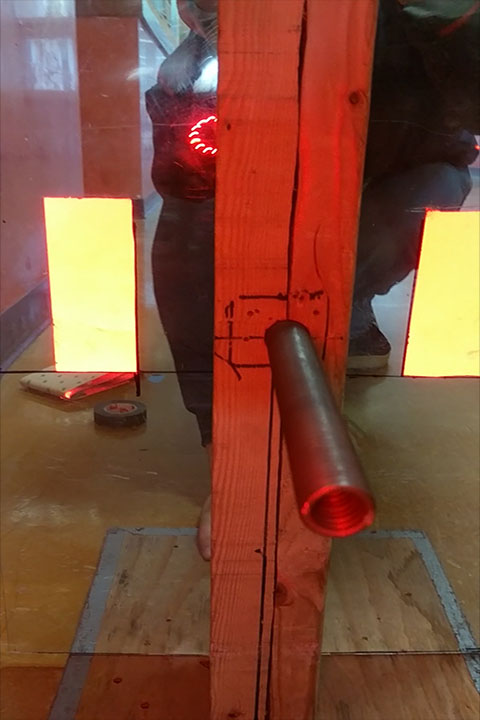gear: (41, 196, 139, 374), (401, 208, 480, 379)
